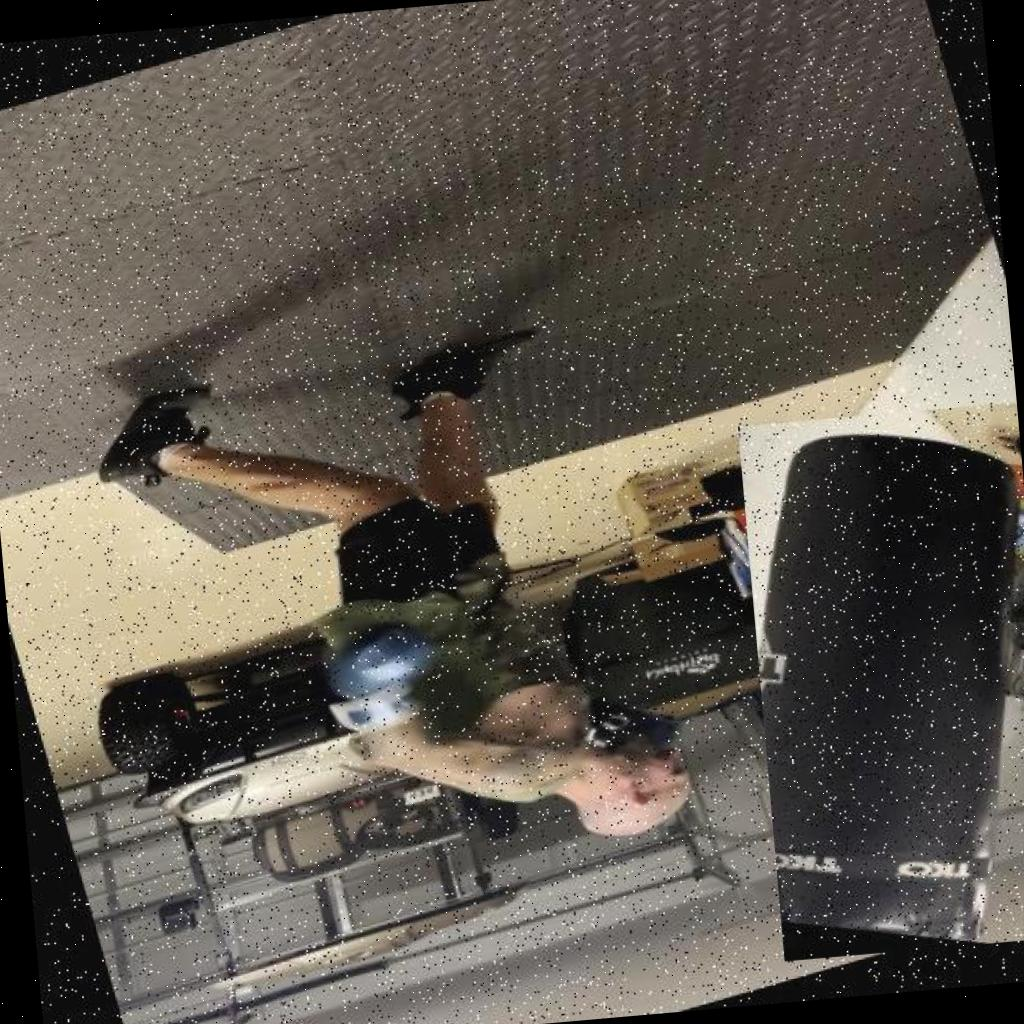bag: (737, 402, 1024, 961)
hook: (275, 544, 742, 945)
